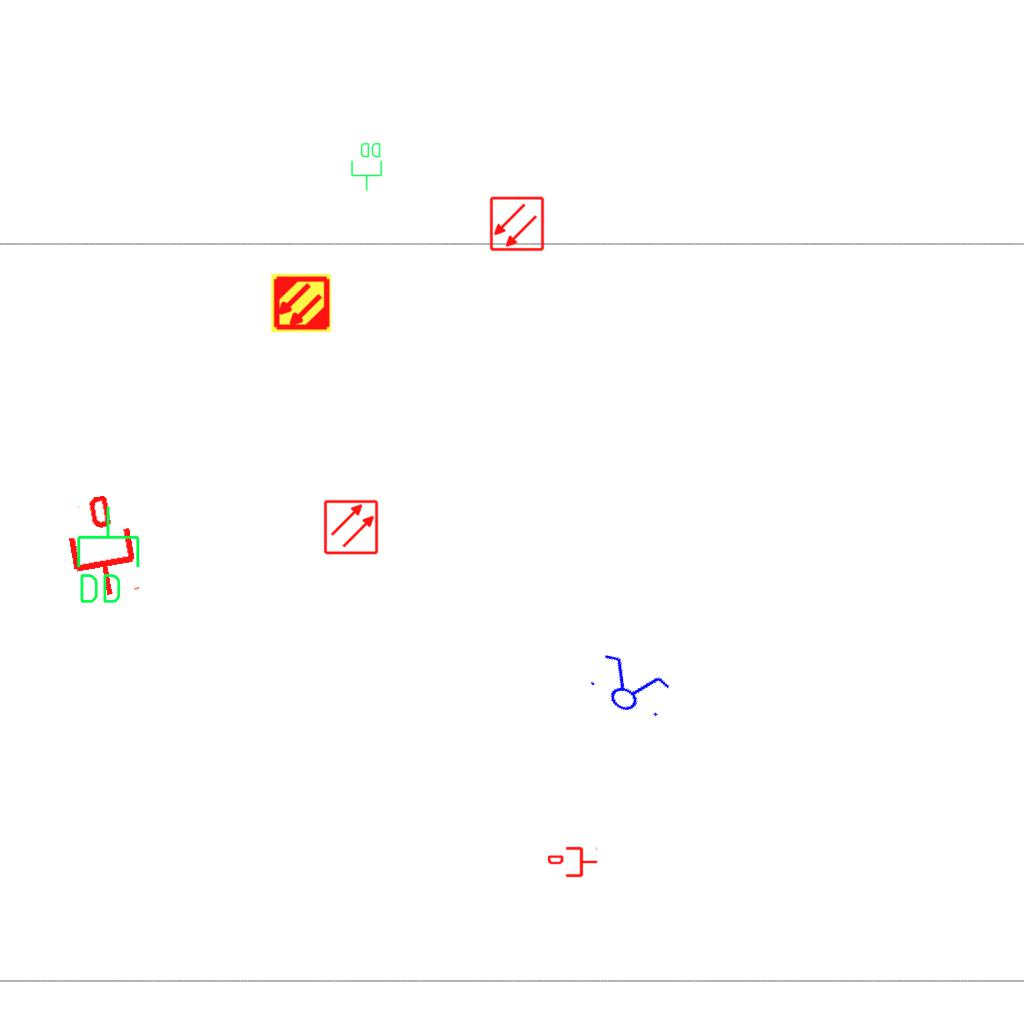ASR_Ansaugrauchmelder: (270, 272, 332, 334)
Datenanschluss_einfach: (58, 491, 145, 603), (548, 845, 598, 879)
Datenanschluss_zweifach: (73, 504, 142, 607), (350, 141, 384, 192)
RMO_Rauchmelder_optischer: (323, 499, 379, 555), (489, 196, 545, 252)
Serienschalter: (580, 647, 678, 727)
